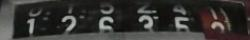digits: (198, 3, 227, 33), (133, 1, 161, 31), (168, 3, 196, 29), (61, 14, 77, 30), (98, 16, 114, 29), (26, 16, 35, 32)
